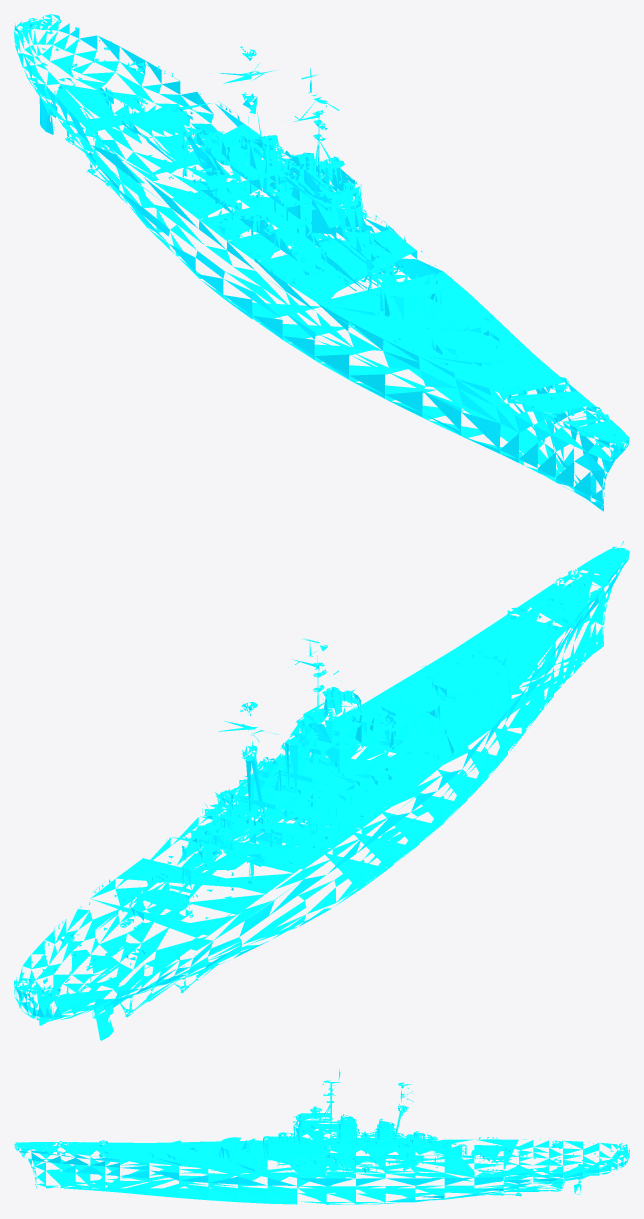
File: Sibir.glb
The picture shows the model from 3 angles, top to bottom: view 1: azimuth 30°, elevation 25°; view 2: azimuth 150°, elevation 25°; view 3: azimuth 270°, elevation 25°; orthographic projection. The views are drawn at different scales.
Size of the model in its own units: 2.69 by 4.16 by 19.47.
